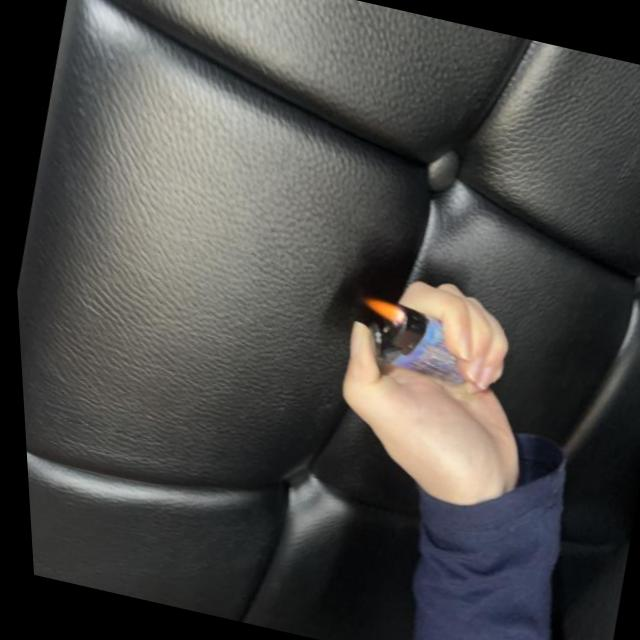Fire: (354, 294, 404, 326)
